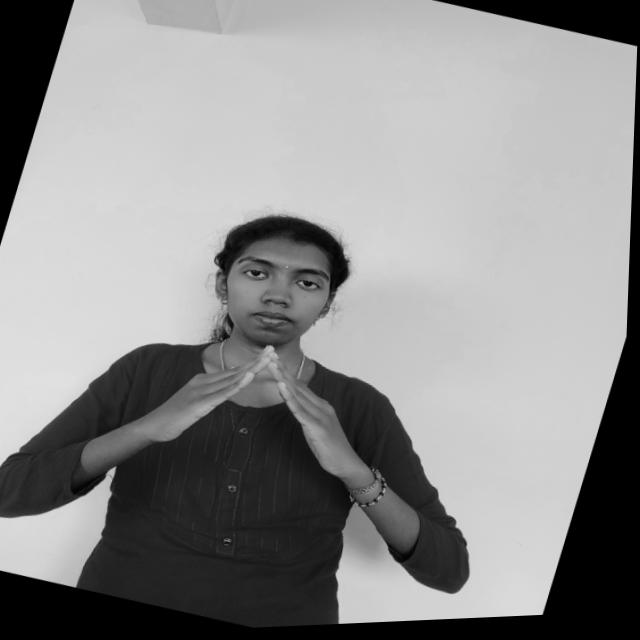Home: (126, 305, 409, 507)
